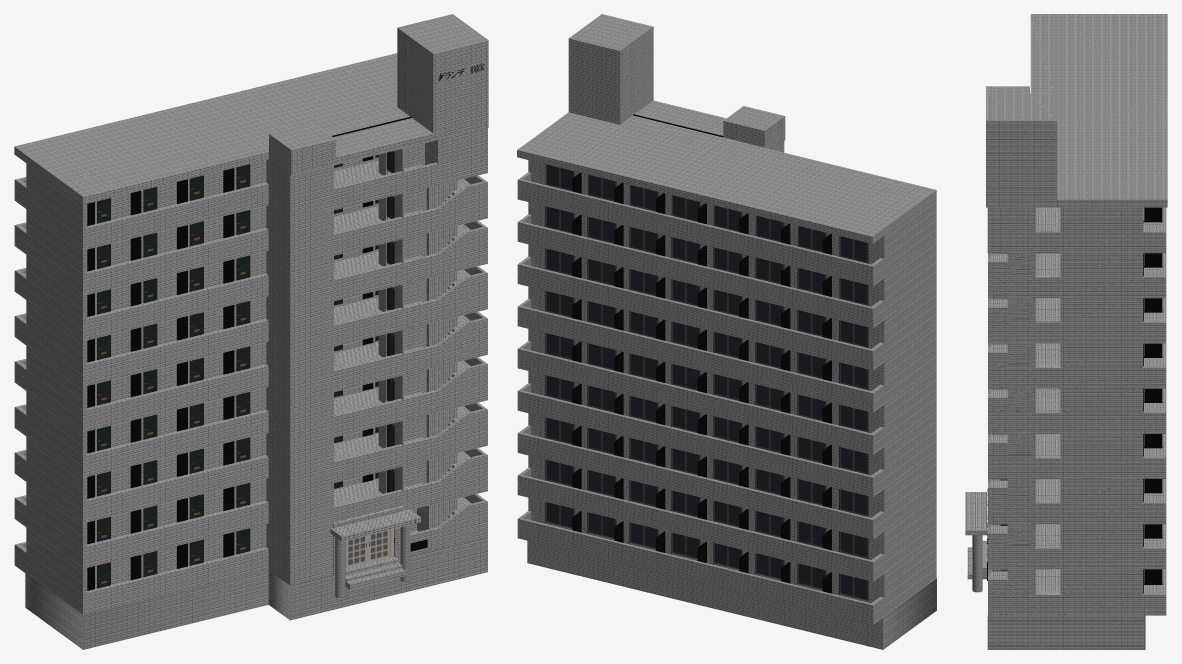
The model's file is __apartment_ikeda_001_mid.fbx.
3 renders of one model, left to right at view 1: azimuth 30°, elevation 25°; view 2: azimuth 150°, elevation 25°; view 3: azimuth 270°, elevation 25°, orthographic. The views are drawn at different scales.
Visible parts, largest first — view 1: pPlane6; view 2: pPlane6; view 3: pPlane6.
Part boxes in pixels (bbox=[...]): pPlane6: bbox=[14, 14, 488, 649]; pPlane6: bbox=[517, 14, 936, 649]; pPlane6: bbox=[965, 14, 1167, 649].
Bounding box in the file's own units: 4.48 × 5.95 × 2.06.
